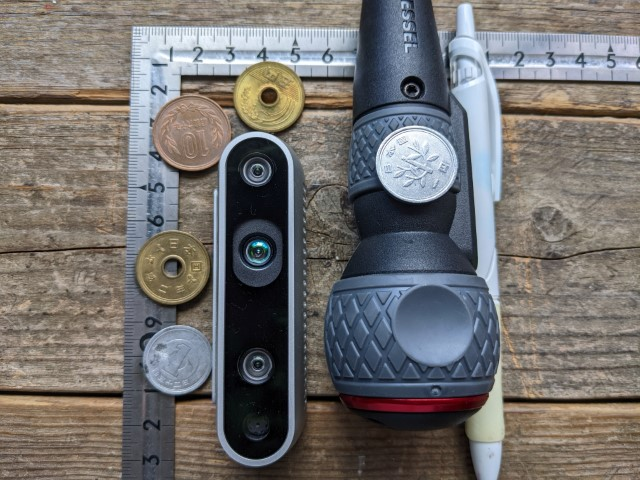10yen: (152, 95, 232, 172)
1yen: (376, 125, 458, 203), (143, 325, 212, 396)
5yen: (135, 230, 210, 305), (233, 61, 305, 133)
